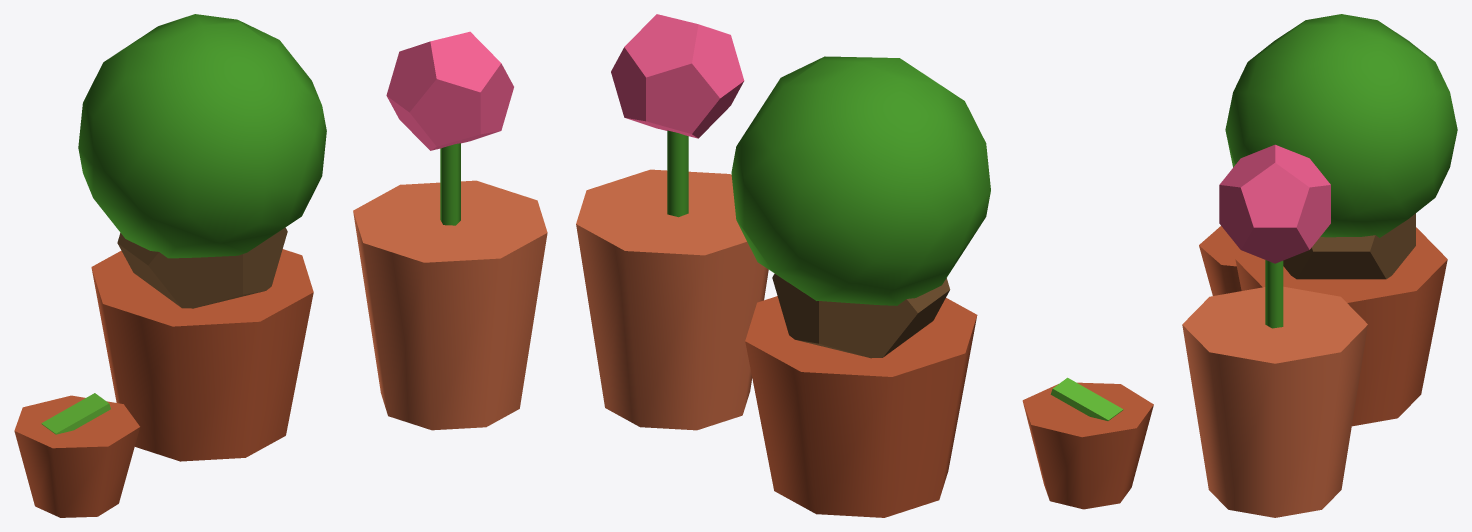
File: prop_potted_plants.glb
3 renders of one model, left to right at view 1: azimuth 30°, elevation 25°; view 2: azimuth 150°, elevation 25°; view 3: azimuth 270°, elevation 25°, orthographic. The views are drawn at different scales.
Parts seen in each view (by area): view 1: PottedPlants; view 2: PottedPlants; view 3: PottedPlants.
Part boxes in pixels (x1,y1,x2,y2): PottedPlants: (14, 14, 547, 517); PottedPlants: (576, 14, 1153, 517); PottedPlants: (1182, 14, 1457, 517).
Size of the model in its own units: 1.69 by 1.23 by 0.83.
